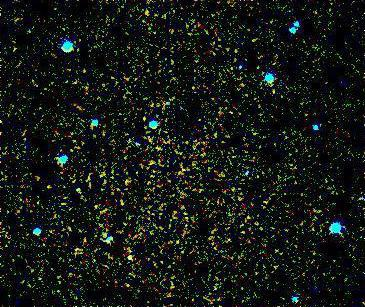star: (131, 105, 161, 135)
